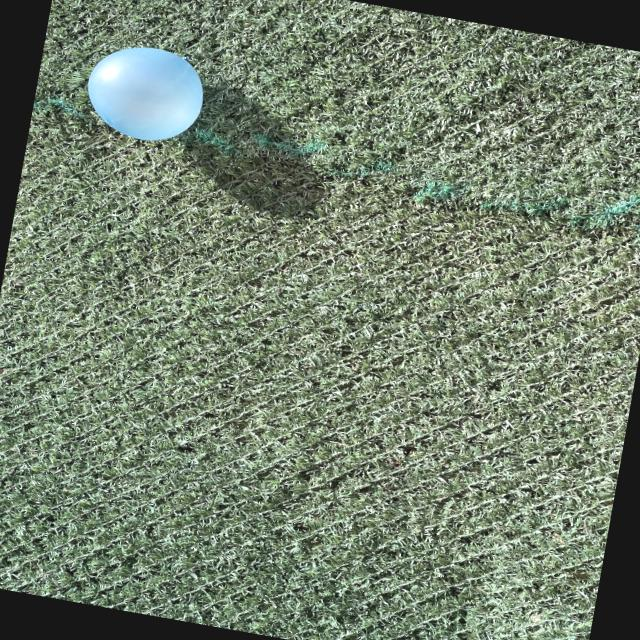balloon: (88, 47, 202, 140)
